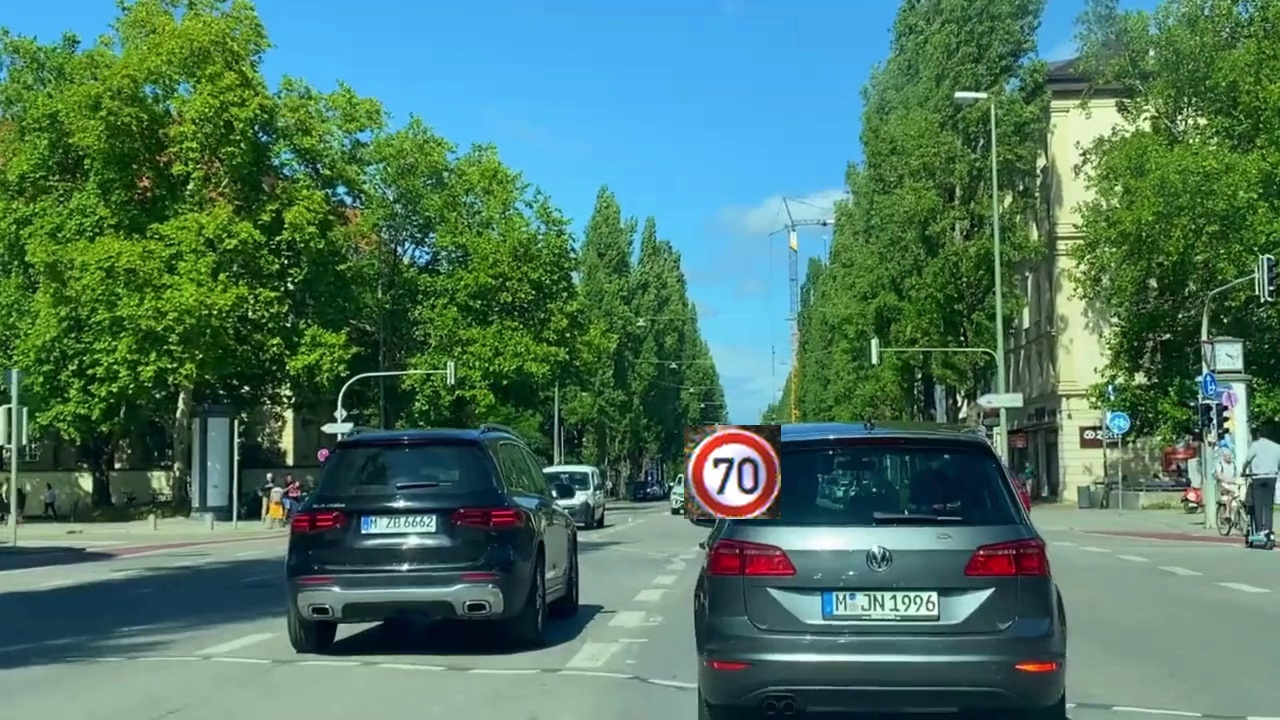Speed 70: (684, 425, 781, 519)
